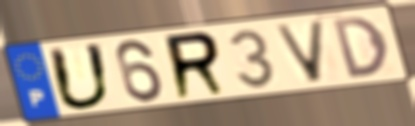3: (223, 27, 278, 91)
6: (114, 37, 165, 105)
D: (329, 14, 392, 81)
R: (162, 29, 231, 103)
U: (45, 41, 115, 113)
V: (271, 18, 329, 85)
